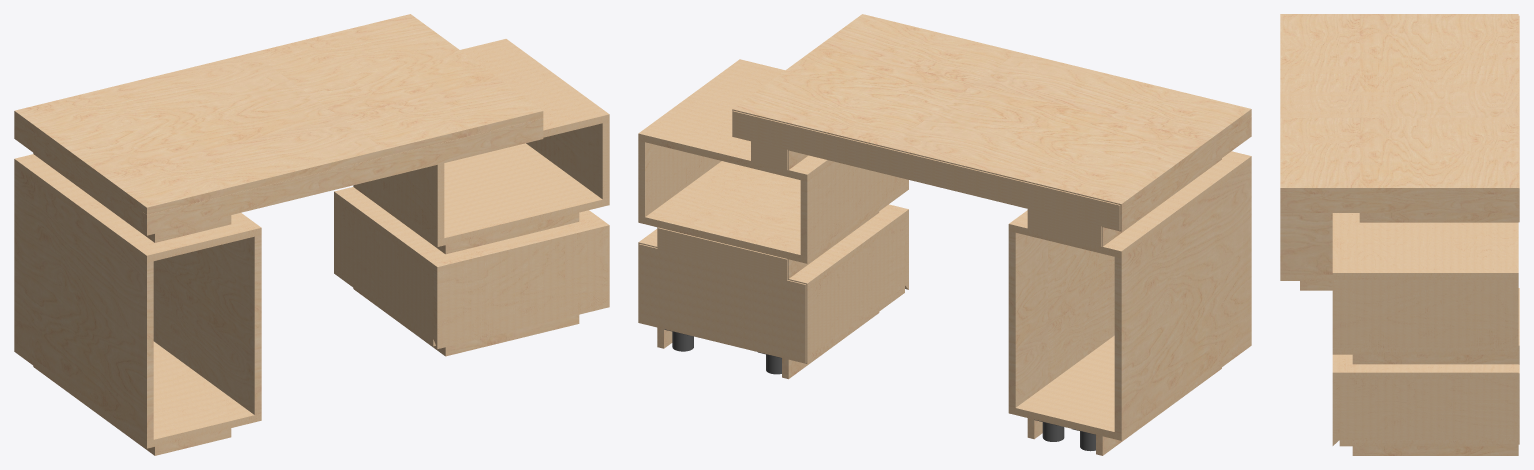
File: Escritorio.glb
3 renders of one model, left to right at view 1: azimuth 30°, elevation 25°; view 2: azimuth 150°, elevation 25°; view 3: azimuth 270°, elevation 25°, orthographic. The views are drawn at different scales.
Parts seen in each view (by area): view 1: Mesh36 Group33 Model, Mesh10 Group10 Model, Mesh26 Diferencia1 Group20 Model, Mesh14 Group15 Model, Mesh16 Group17 Model, Mesh37 Group34 Model, Mesh15 Group16 Model, Mesh21 Group23 Group20 Model, Mesh4 Group4 Model, Mesh6 Group6 Model, Mesh19 Group21 Group20 Model, Mesh18 Group19 Model (+7 smaller); view 2: Mesh36 Group33 Model, Mesh10 Group10 Model, Mesh14 Group15 Model, Mesh42 Diferencia2 Model, Mesh16 Group17 Model, Mesh40 Group37 Model, Mesh6 Group6 Model, Mesh15 Group16 Model, Mesh21 Group23 Group20 Model, Mesh17 Group18 Model, Mesh4 Group4 Model, Mesh18 Group19 Model (+6 smaller); view 3: Mesh36 Group33 Model, Mesh18 Group19 Model, Mesh6 Group6 Model, Mesh22 Group24 Group20 Model, Mesh39 Group36 Model, Mesh14 Group15 Model, Mesh19 Group21 Group20 Model, Mesh33 Group30 Model, Mesh25 Group27 Group20 Model, Mesh5 Group5 Model, Mesh16 Group17 Model, Mesh20 Group22 Group20 Model (+4 smaller).
Boxes of the visible parts, x1,y1,x2,y2 form: Mesh36 Group33 Model: [14, 14, 543, 214]; Mesh10 Group10 Model: [14, 166, 153, 441]; Mesh26 Diferencia1 Group20 Model: [433, 222, 609, 348]; Mesh14 Group15 Model: [153, 235, 261, 414]; Mesh16 Group17 Model: [353, 143, 609, 246]; Mesh37 Group34 Model: [143, 118, 543, 235]; Mesh15 Group16 Model: [14, 341, 261, 448]; Mesh21 Group23 Group20 Model: [334, 199, 433, 338]; Mesh4 Group4 Model: [14, 154, 261, 262]; Mesh6 Group6 Model: [460, 39, 609, 137]; Mesh19 Group21 Group20 Model: [334, 187, 604, 270]; Mesh18 Group19 Model: [526, 121, 609, 199]; Mesh36 Group33 Model: [732, 14, 1251, 211]; Mesh10 Group10 Model: [1114, 163, 1251, 433]; Mesh14 Group15 Model: [1008, 231, 1114, 407]; Mesh42 Diferencia2 Model: [639, 244, 806, 362]; Mesh16 Group17 Model: [638, 161, 908, 263]; Mesh40 Group37 Model: [732, 110, 1120, 230]; Mesh6 Group6 Model: [638, 59, 834, 181]; Mesh15 Group16 Model: [1008, 335, 1251, 440]; Mesh21 Group23 Group20 Model: [806, 219, 904, 356]; Mesh17 Group18 Model: [800, 162, 908, 256]; Mesh4 Group4 Model: [1008, 151, 1251, 258]; Mesh18 Group19 Model: [638, 140, 721, 216]; Mesh36 Group33 Model: [1280, 14, 1518, 194]; Mesh18 Group19 Model: [1332, 279, 1518, 348]; Mesh6 Group6 Model: [1332, 213, 1518, 279]; Mesh22 Group24 Group20 Model: [1339, 379, 1518, 439]; Mesh39 Group36 Model: [1287, 194, 1518, 212]; Mesh14 Group15 Model: [1280, 213, 1332, 274]; Mesh19 Group21 Group20 Model: [1339, 354, 1518, 378]; Mesh33 Group30 Model: [1359, 354, 1518, 364]; Mesh25 Group27 Group20 Model: [1359, 446, 1518, 455]; Mesh5 Group5 Model: [1367, 213, 1518, 222]; Mesh16 Group17 Model: [1332, 348, 1518, 354]; Mesh20 Group22 Group20 Model: [1339, 440, 1518, 446].
Size of the model in its own units: 1.29 by 0.653 by 0.603.
58 materials, 40 textured.
